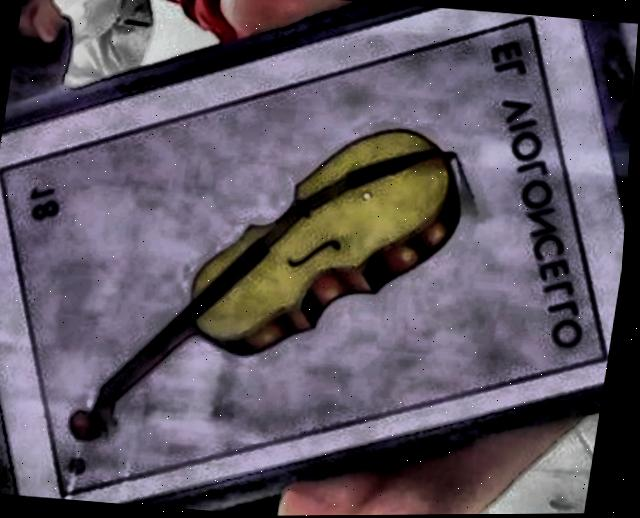El Violoncello: (4, 18, 611, 497)
